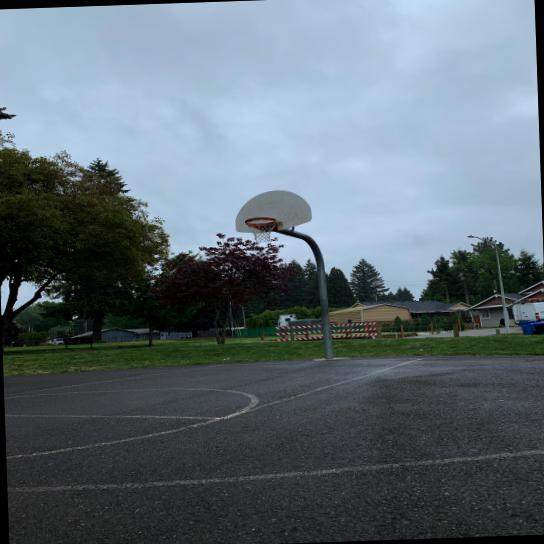basketball-hoop: (244, 216, 278, 244)
